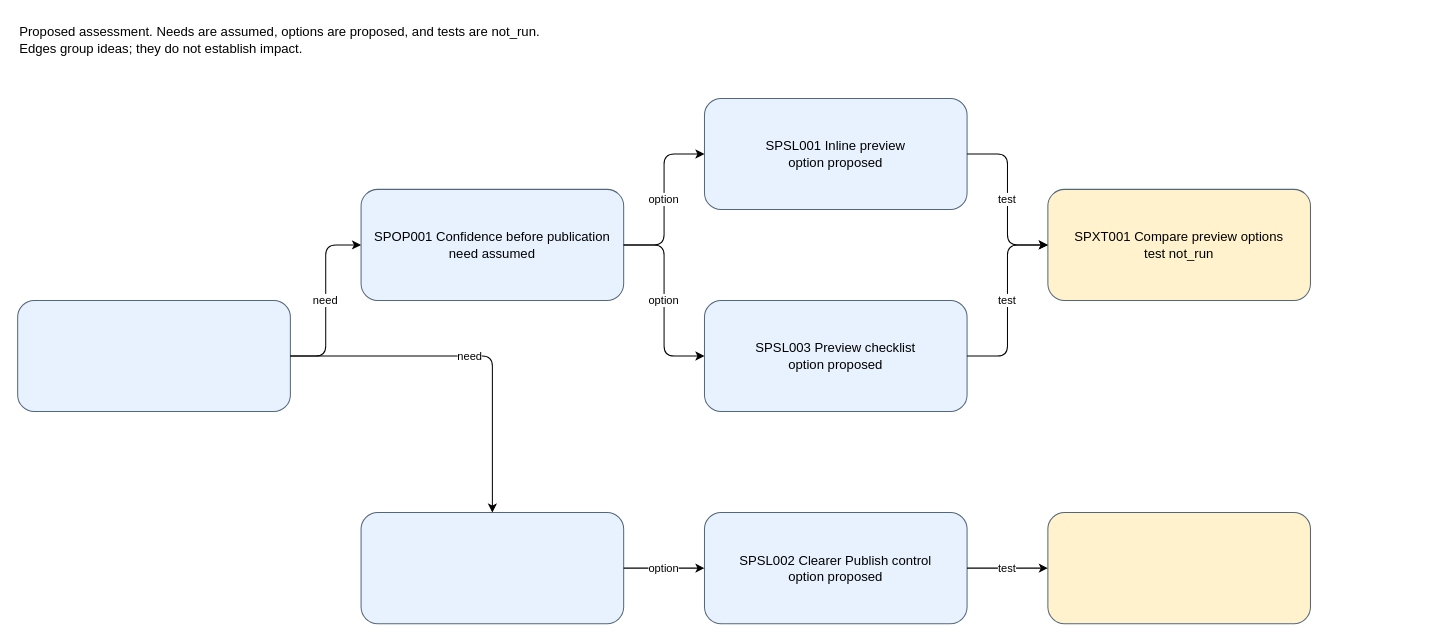
Some shapes in this 1449 by 641 pixel diagram are drawn without their labels. The shapes that lost their labels are listed below. From the top down, each one's centre as x and y in pixels, then its label:
[153,355]: SPOC001 Fewer attempts need help outcome proposed; target 15% proposed
[492,568]: SPOP002 Find the next publishing action need assumed
[1178,568]: SPXT002 Test publishing control test not_run
